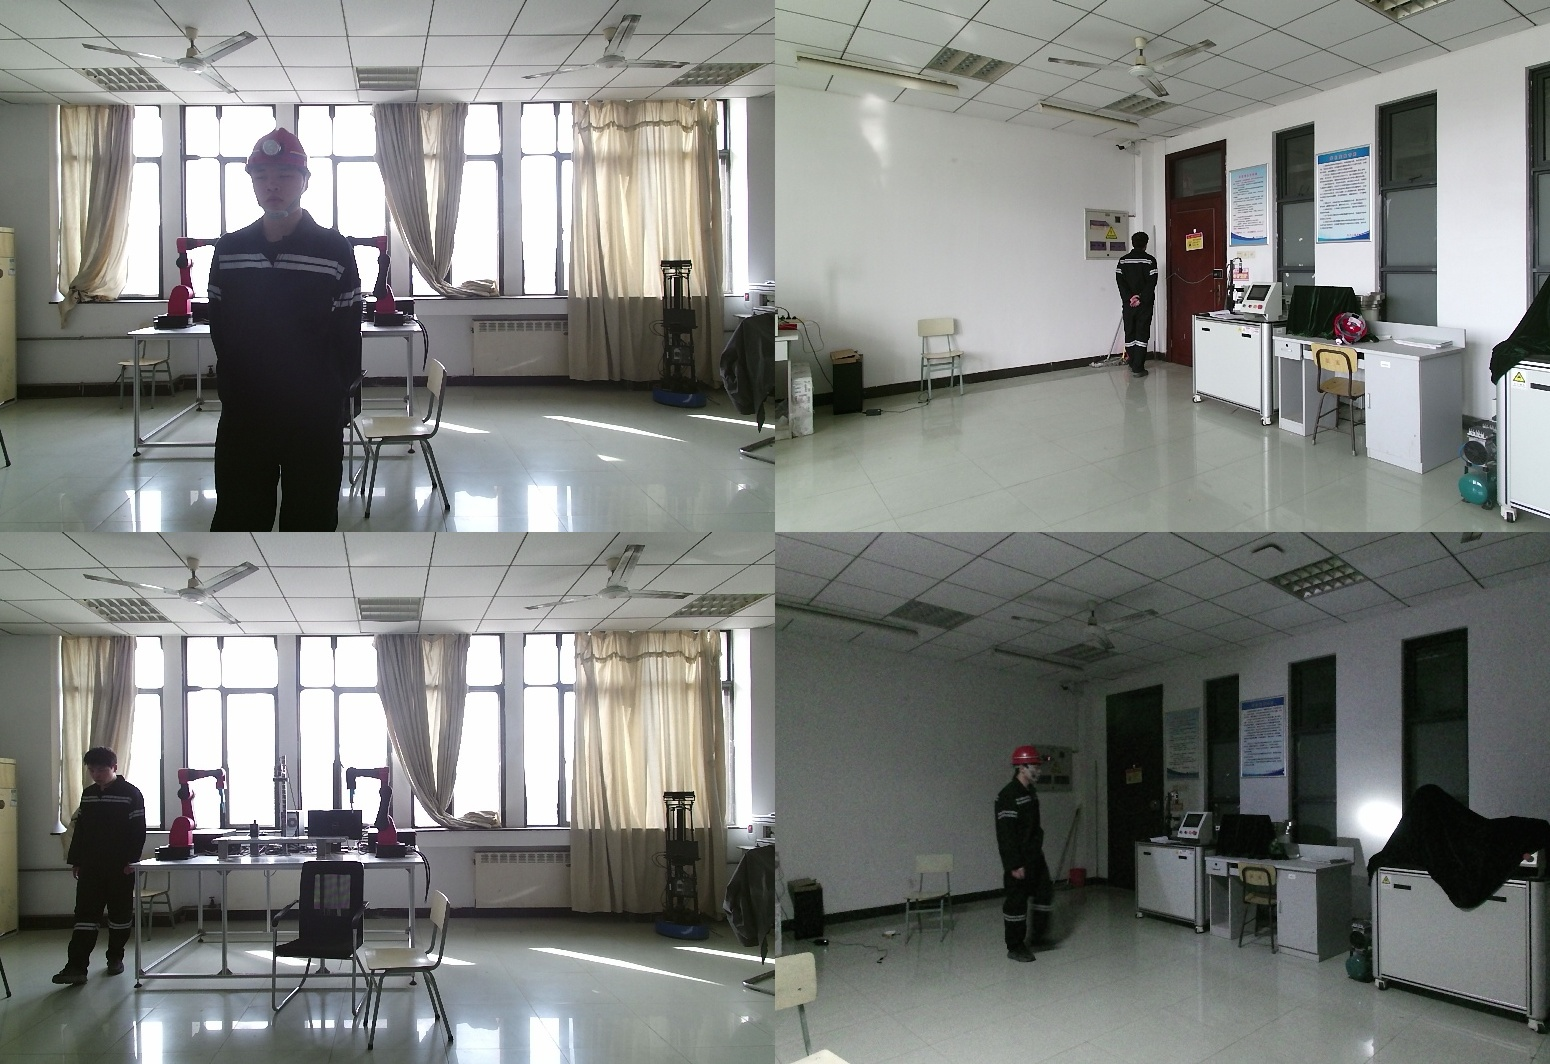person: (206, 128, 359, 532), (50, 749, 146, 983), (986, 745, 1051, 972), (1115, 233, 1165, 381)
